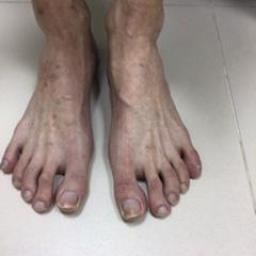Dorsal View -Both Feet-: (2, 4, 207, 235)
